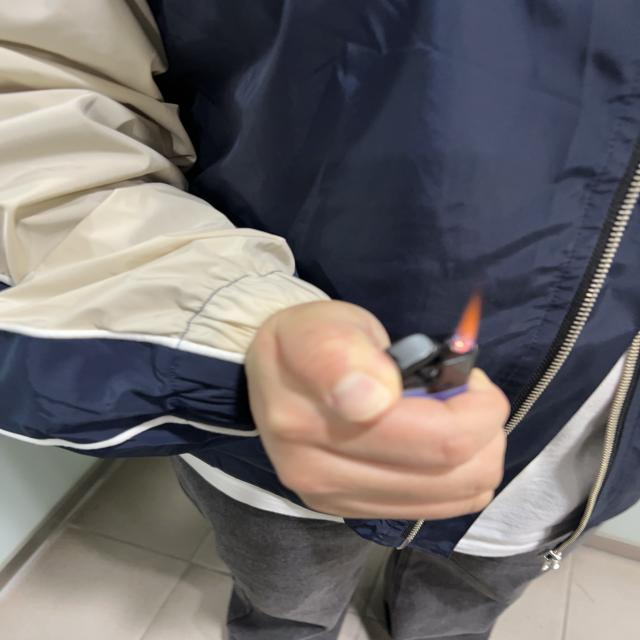fire: (452, 293, 484, 348)
